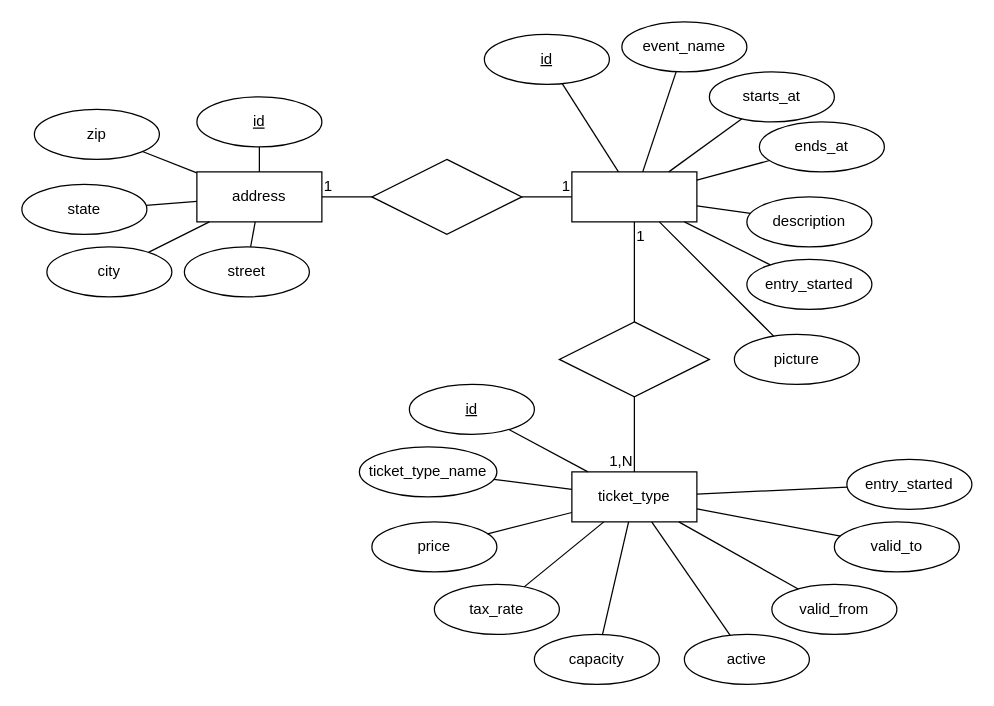
The diagram is 994 pixels wide and 706 high, and some of its shapes have lost their labels. The shapes that lost their labels are listed below. From the top down, each one's centre as x and y in pixels, then its label:
[446,196]: takes_place_at
[634,196]: event
[633,359]: has
